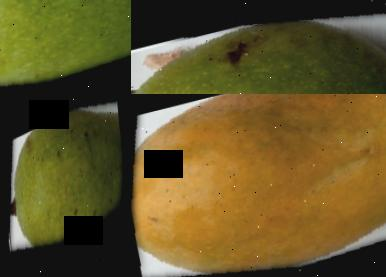PartiallyRipe: (131, 94, 386, 277)
Unripe: (0, 94, 131, 277), (131, 0, 386, 94), (0, 0, 131, 94)
